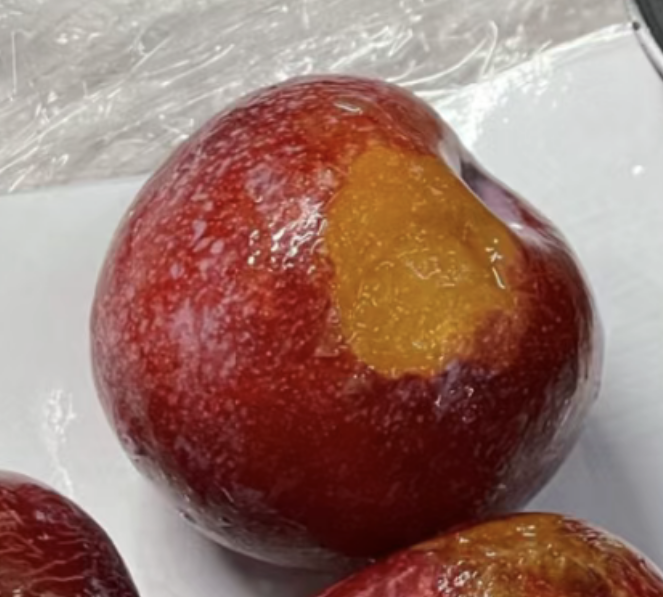plum_C: (90, 74, 605, 570)
